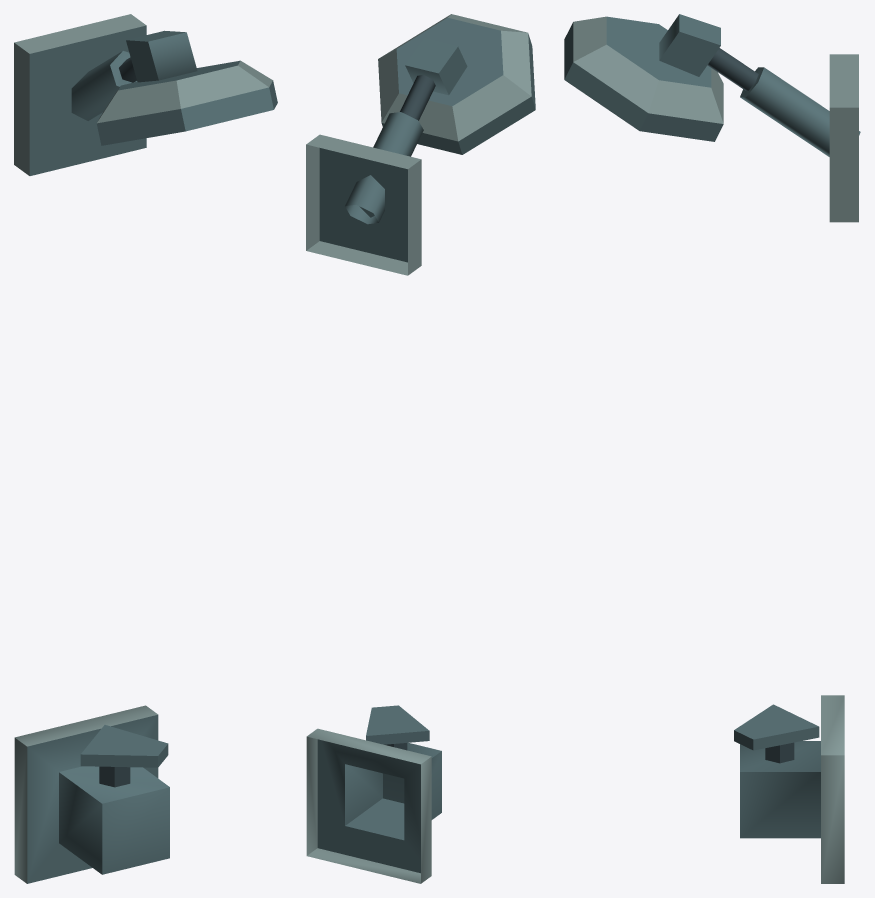
File: ShowerPart.fbx
3 renders of one model, left to right at view 1: azimuth 30°, elevation 25°; view 2: azimuth 150°, elevation 25°; view 3: azimuth 270°, elevation 25°, orthographic. The views are drawn at different scales.
Parts seen in each view (by area): view 1: ShowerPart; view 2: ShowerPart; view 3: ShowerPart.
Part boxes in pixels (x1,y1,x2,y2): ShowerPart: (14, 14, 277, 883); ShowerPart: (306, 14, 535, 883); ShowerPart: (564, 14, 860, 883).
Size of the model in its own units: 24.38 by 117 by 37.86.
